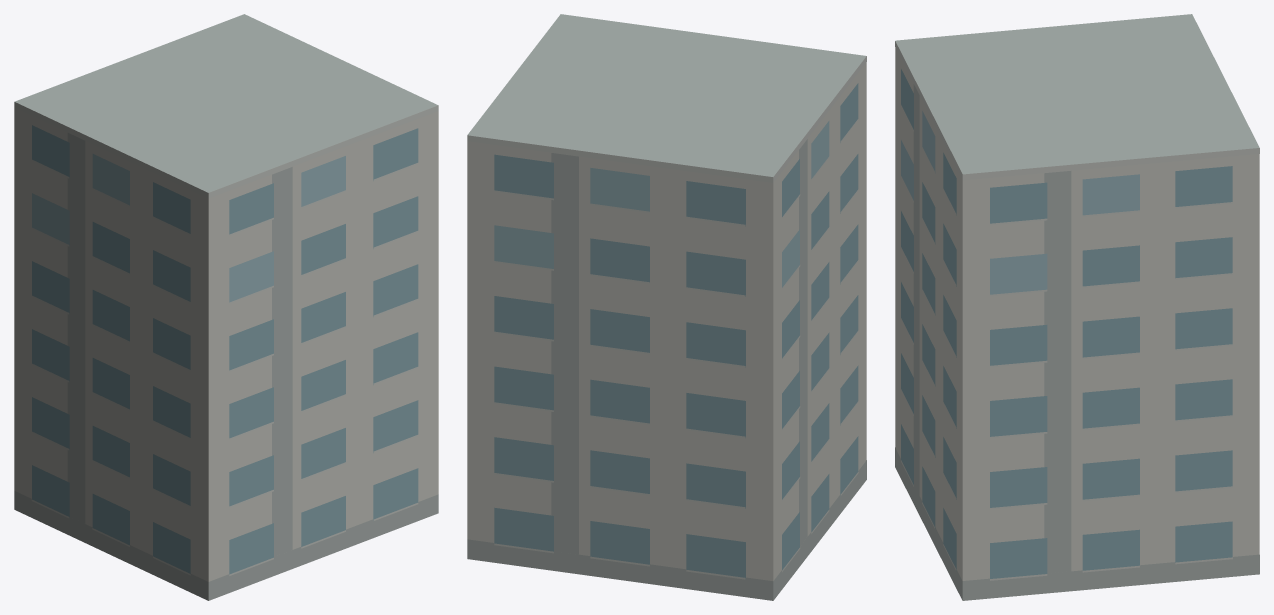
Rendered from survey-upis-32808963.glb.
The picture shows the model from 3 angles, left to right: view 1: azimuth 30°, elevation 25°; view 2: azimuth 150°, elevation 25°; view 3: azimuth 270°, elevation 25°; orthographic projection. The views are drawn at different scales.
Parts seen in each view (by area): view 1: survey-upis-32808963.tmp; view 2: survey-upis-32808963.tmp; view 3: survey-upis-32808963.tmp.
Boxes of the visible parts, bbox=[...] form: survey-upis-32808963.tmp: bbox=[14, 14, 438, 600]; survey-upis-32808963.tmp: bbox=[467, 14, 866, 600]; survey-upis-32808963.tmp: bbox=[895, 14, 1259, 600].
Size of the model in its own units: 13.8 by 17.1 by 13.26.
